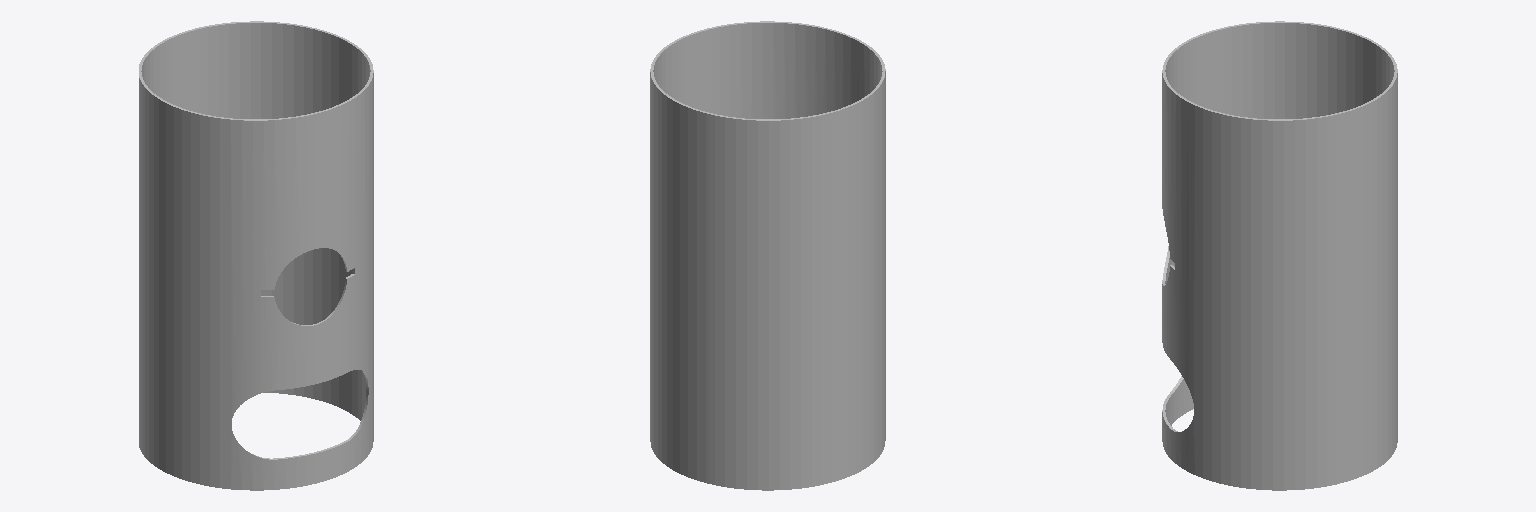
Rendered from VentilationTube150mmWithBatteries&HoseHoles.obj.
3 views of the same model, side by side, from view 1: azimuth 30°, elevation 25°; view 2: azimuth 150°, elevation 25°; view 3: azimuth 270°, elevation 25° (orthographic).
Parts seen in each view (by area): view 1: TubVentilatie150mm\Tube; view 2: TubVentilatie150mm\Tube; view 3: TubVentilatie150mm\Tube.
Part boxes in pixels (x1,y1,x2,y2): TubVentilatie150mm\Tube: (139,21,373,490); TubVentilatie150mm\Tube: (650,21,885,490); TubVentilatie150mm\Tube: (1162,21,1397,490).
Size of the model in its own units: 154 by 267 by 154.